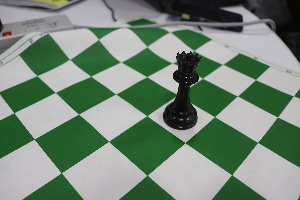black_queen: (164, 37, 203, 135)
